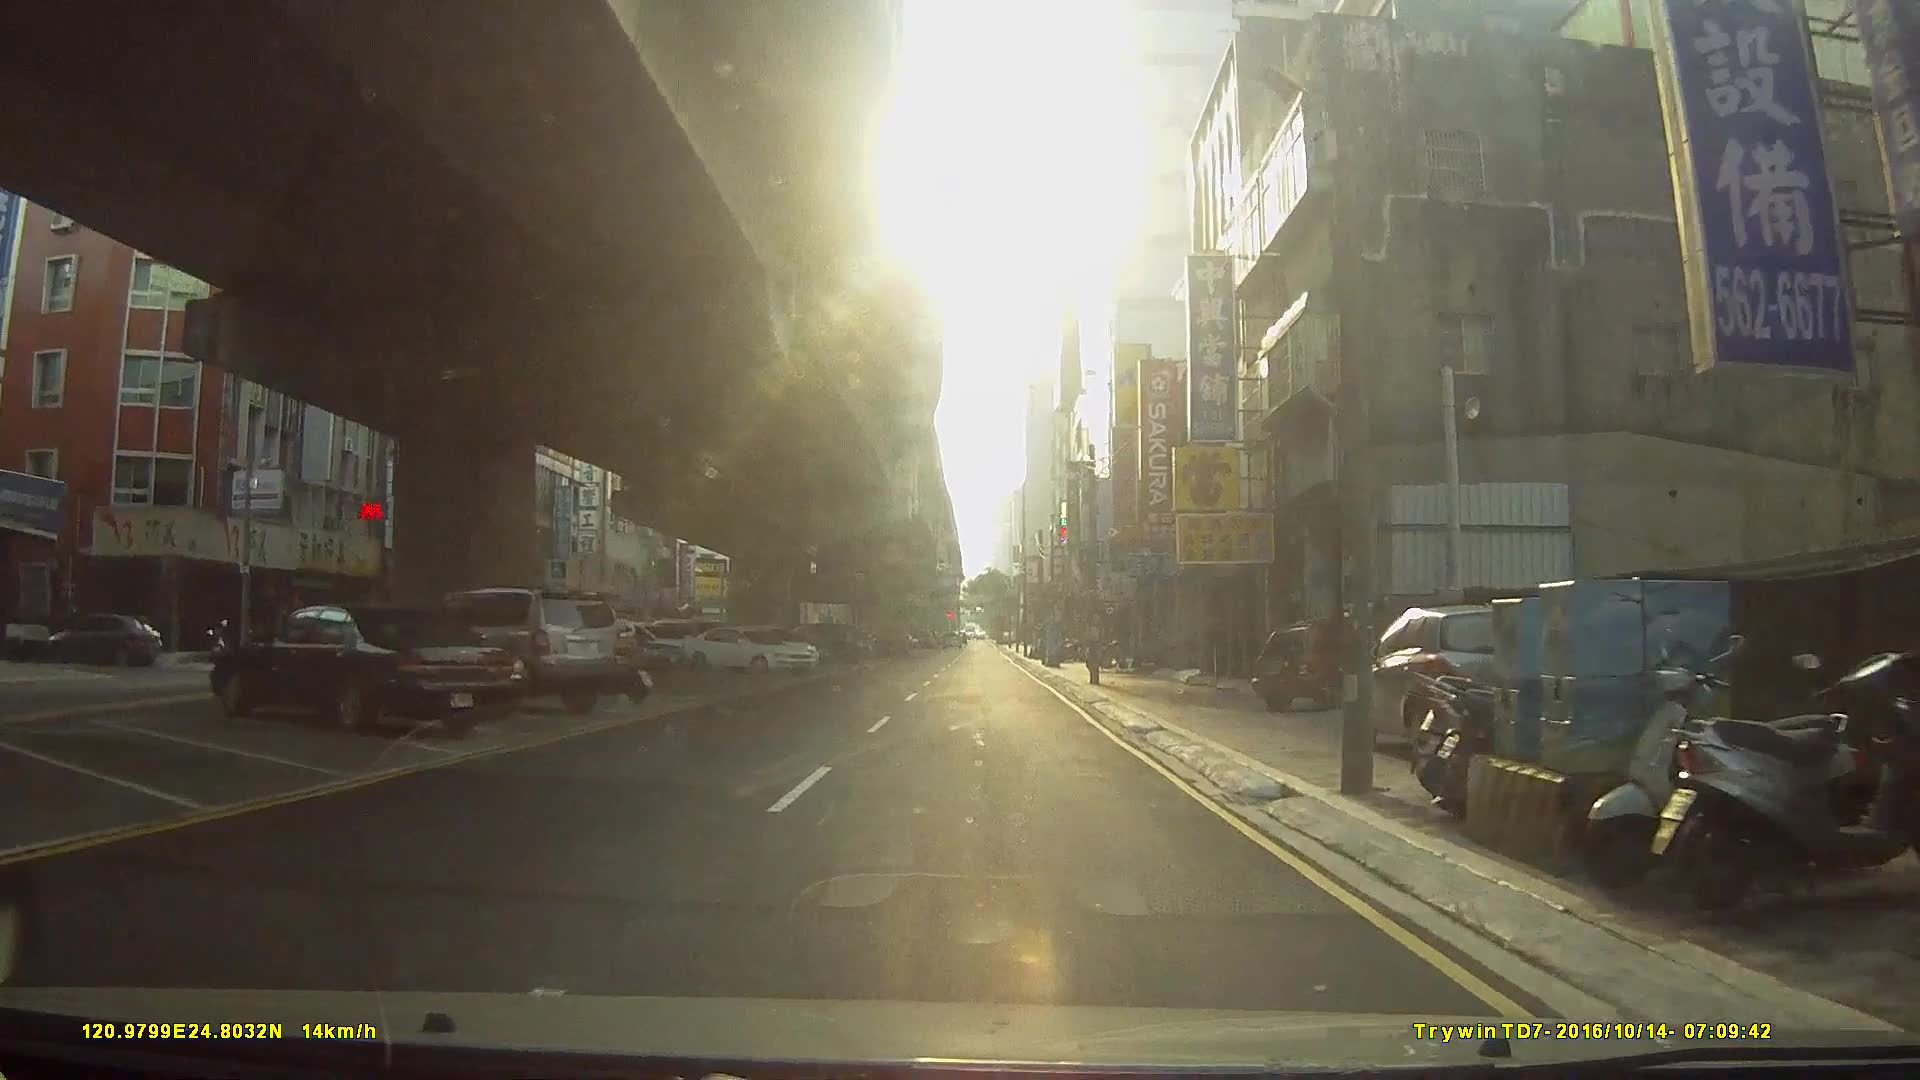vehicle: (208, 603, 516, 736), (1346, 601, 1563, 760), (419, 585, 624, 712), (1251, 615, 1393, 711), (678, 624, 820, 678), (42, 609, 162, 663)
